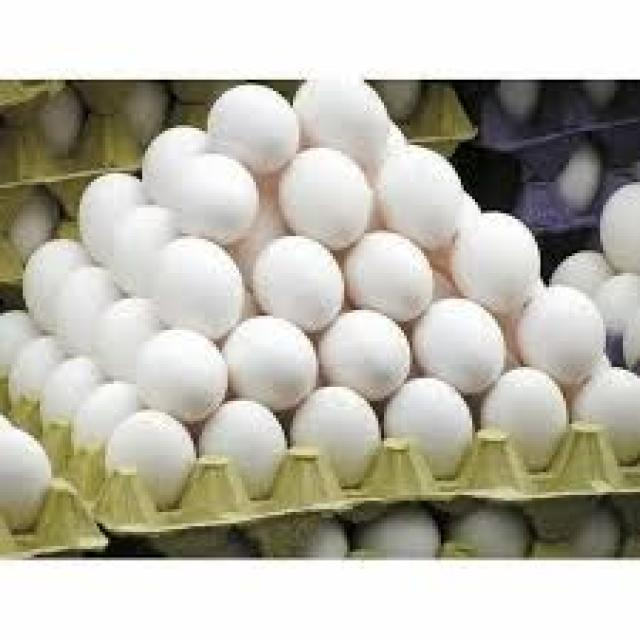White Egg: (145, 232, 256, 344), (276, 136, 381, 248), (205, 310, 323, 405), (238, 230, 351, 329), (131, 311, 232, 420), (293, 368, 386, 479), (485, 359, 574, 472), (402, 293, 510, 386), (316, 306, 419, 398), (165, 152, 272, 240), (378, 145, 468, 249), (200, 393, 286, 492), (216, 85, 316, 170), (81, 166, 173, 256), (350, 220, 436, 316), (513, 282, 603, 373), (456, 213, 539, 308), (401, 387, 480, 484), (574, 358, 640, 466), (119, 206, 195, 290), (22, 232, 80, 330), (66, 264, 120, 363), (93, 293, 161, 367)
